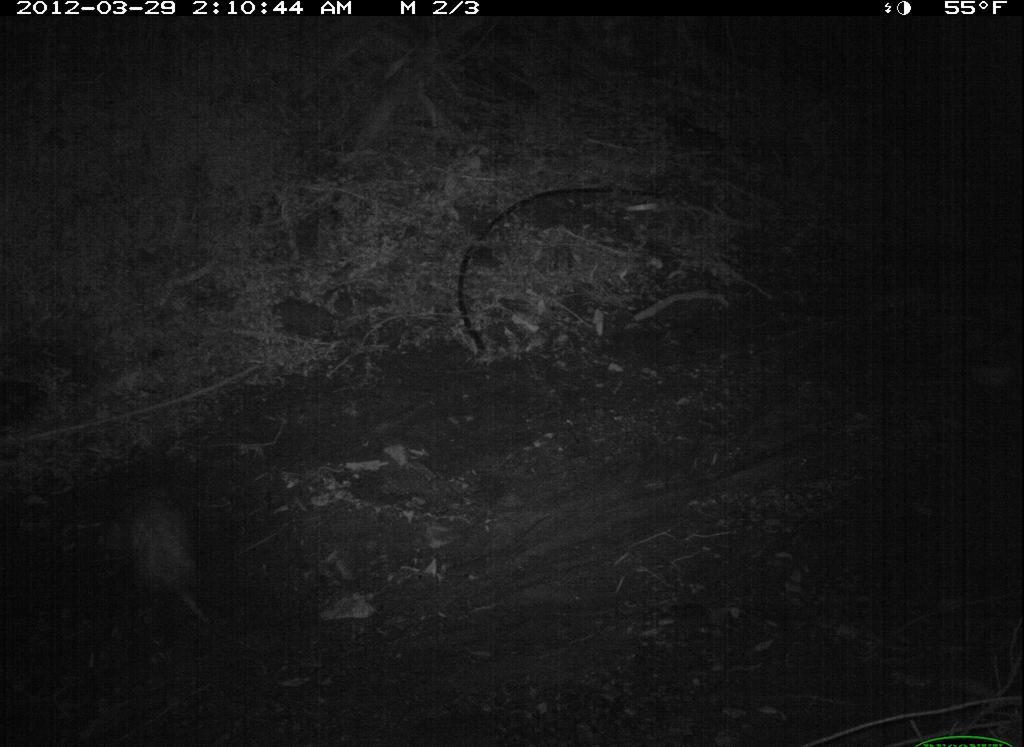opossum: (120, 479, 235, 656)
